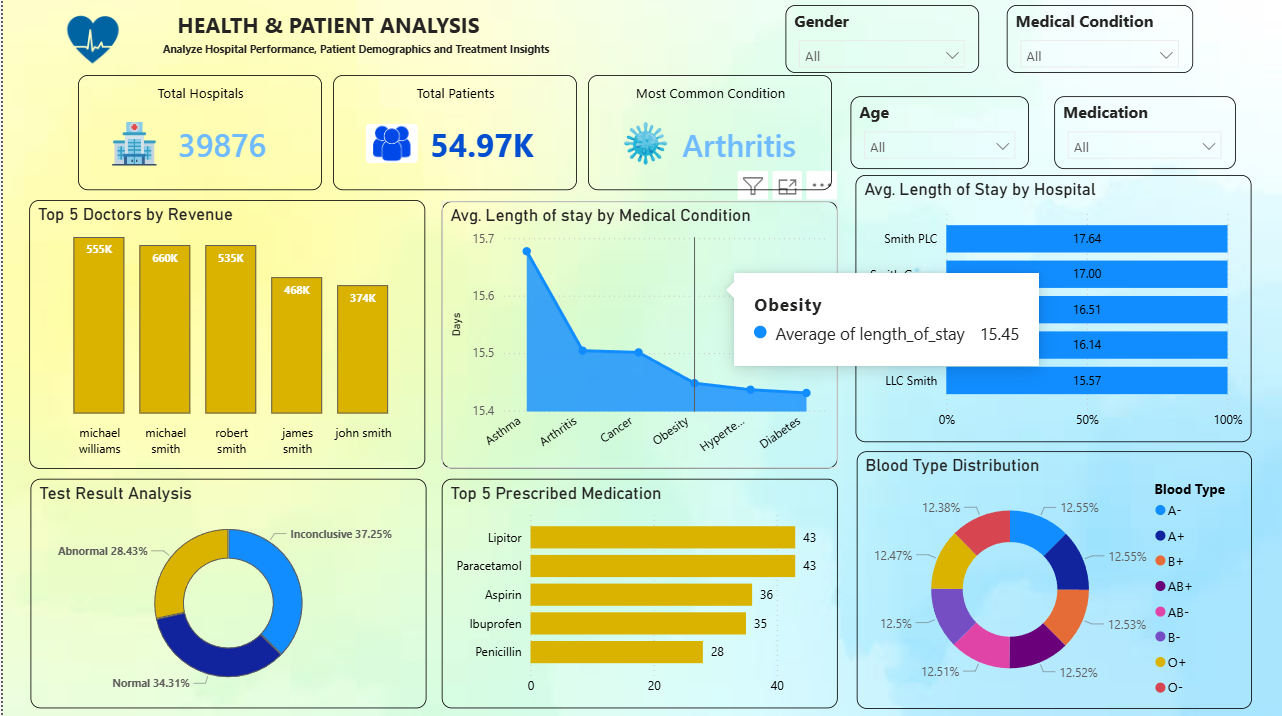

What the dashboard file says about the page in this screenshot:
{"tool":"powerbi","page":{"name":"Health & Patient Analysis","canvas":[1280,720],"ordinal":2},"visuals":[{"type":"cardVisual","fields":{"Data":["CountNonNull(cleaned_healthcare_dataset.name)"]},"box":[330.2,75.6,243.8,115],"z":0},{"type":"slicer","title":"Gender","fields":{"Values":["cleaned_healthcare_dataset.gender"]},"box":[782,4.7,193.3,68],"z":1000},{"type":"slicer","title":"Age ","fields":{"Values":["cleaned_healthcare_dataset.Age Group"]},"box":[847.7,96.8,178.8,72.5],"z":2000},{"type":"slicer","title":"Medication","fields":{"Values":["cleaned_healthcare_dataset.medication"]},"box":[1051.4,96.8,181.2,72.5],"z":3000},{"type":"slicer","title":"Medical Condition","fields":{"Values":["cleaned_healthcare_dataset.medical_condition"]},"box":[1004,4.7,186,68],"z":4000},{"type":"columnChart","title":"Top 5 Doctors by Revenue","fields":{"Y":["cleaned_healthcare_dataset.Total Distinct Doctors"],"Category":["cleaned_healthcare_dataset.name"]},"box":[26.4,200.6,396.2,268.8],"z":5000},{"type":"lineChart","title":"Avg. Length of stay by Medical Condition","fields":{"Category":["cleaned_healthcare_dataset.medical_condition"],"Y":["Avg(cleaned_healthcare_dataset.length_of_stay)"]},"box":[438.9,201.8,396.2,267.5],"z":6000},{"type":"hundredPercentStackedBarChart","title":"Avg. Length of Stay by Hospital","fields":{"Category":["cleaned_healthcare_dataset.hospital"],"Y":["Avg(cleaned_healthcare_dataset.length_of_stay)"]},"box":[852.5,175,396.2,267.5],"z":7000},{"type":"image","box":[40.2,5.3,99,69.7],"z":8000},{"type":"textbox","box":[99.2,5.3,453.7,74.6],"z":9000},{"type":"cardVisual","fields":{"Data":["cleaned_healthcare_dataset.Total Distinct Hospitals"]},"box":[75.2,75.6,243.8,115],"z":10000},{"type":"cardVisual","fields":{"Data":["cleaned_healthcare_dataset.Most Common Condition"]},"box":[585.2,75.6,243.8,115],"z":11000},{"type":"donutChart","title":"Test Result Analysis","fields":{"Category":["cleaned_healthcare_dataset.test_results"],"Y":["CountNonNull(cleaned_healthcare_dataset.test_results)"]},"box":[26.9,479.4,396.2,229.9],"z":12000},{"type":"barChart","title":"Top 5 Prescribed Medication","fields":{"Category":["cleaned_healthcare_dataset.medication"],"Y":["CountNonNull(cleaned_healthcare_dataset.medication)"]},"box":[439,479.4,396.2,229.9],"z":13000},{"type":"donutChart","title":"Blood Type Distribution","fields":{"Category":["cleaned_healthcare_dataset.blood_type"],"Y":["CountNonNull(cleaned_healthcare_dataset.blood_type)"]},"box":[853.8,451.2,395,257.5],"z":14000}]}

Visuals, with their boxes in screenshot pixels (x1, y1, x2, y2), scaled from the page's 1280x720 canvas onto the 1282x716 screenshot:
cardVisual - CountNonNull(cleaned_healthcare_dataset.name): [331,75,575,190]
"Gender" slicer: [783,5,977,72]
"Age " slicer: [849,96,1028,168]
"Medication" slicer: [1053,96,1235,168]
"Medical Condition" slicer: [1006,5,1192,72]
"Top 5 Doctors by Revenue" columnChart: [26,199,423,467]
"Avg. Length of stay by Medical Condition" lineChart: [440,201,836,467]
"Avg. Length of Stay by Hospital" hundredPercentStackedBarChart: [854,174,1251,440]
image: [40,5,139,75]
textbox: [99,5,554,79]
cardVisual - cleaned_healthcare_dataset.Total Distinct Hospitals: [75,75,319,190]
cardVisual - cleaned_healthcare_dataset.Most Common Condition: [586,75,830,190]
"Test Result Analysis" donutChart: [27,477,424,705]
"Top 5 Prescribed Medication" barChart: [440,477,837,705]
"Blood Type Distribution" donutChart: [855,449,1251,705]
